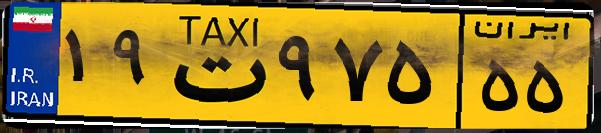1: (57, 26, 110, 100)
5: (385, 28, 445, 110), (475, 38, 525, 113), (525, 38, 570, 115)
7: (330, 28, 385, 110)
9: (270, 28, 330, 110), (110, 28, 158, 98)
ت: (158, 12, 270, 120)
